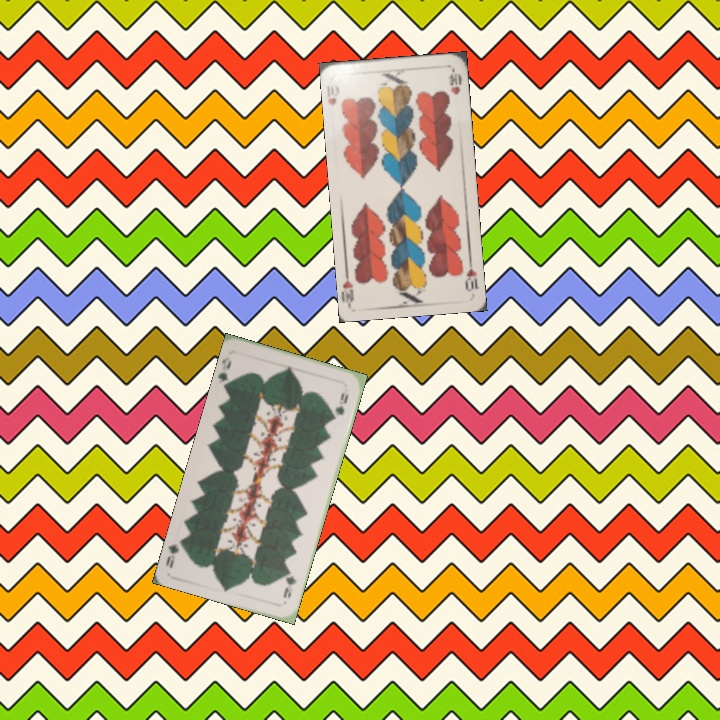G9: (214, 353, 235, 391), (279, 565, 299, 601)
H10: (461, 255, 481, 294), (324, 79, 342, 108)
